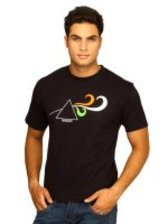clothoes: (19, 61, 153, 200)
